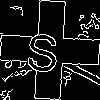S: (25, 25, 61, 73)
